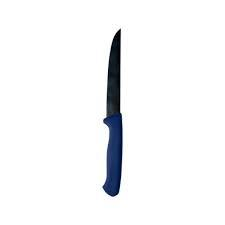Knife: (101, 27, 122, 196)
